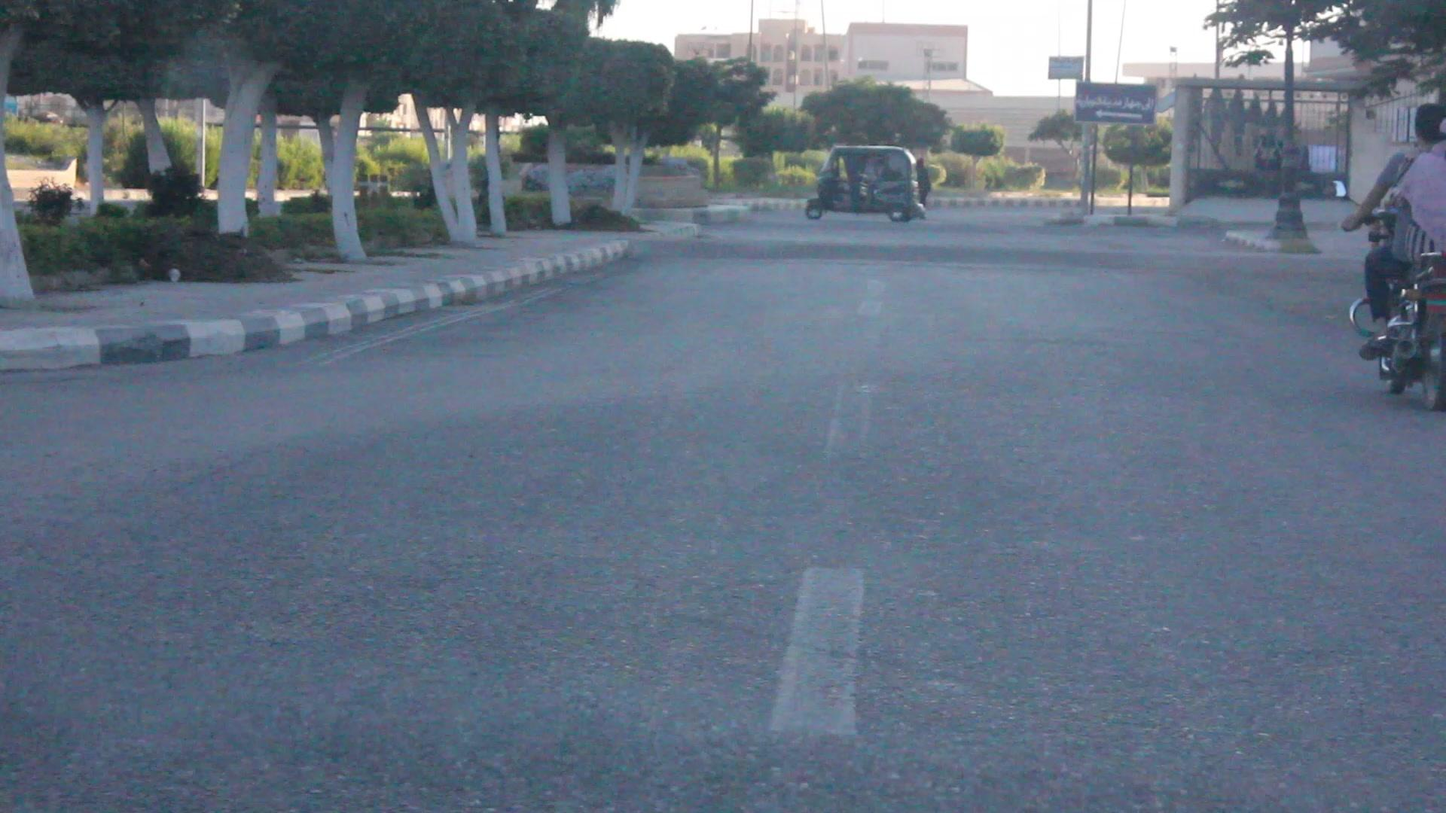Bump: (668, 218, 1303, 262)
